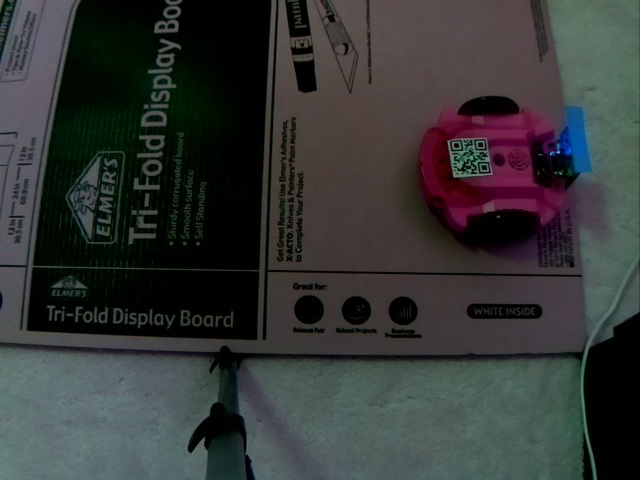chassis: (417, 90, 589, 244)
qr: (444, 134, 495, 180)
